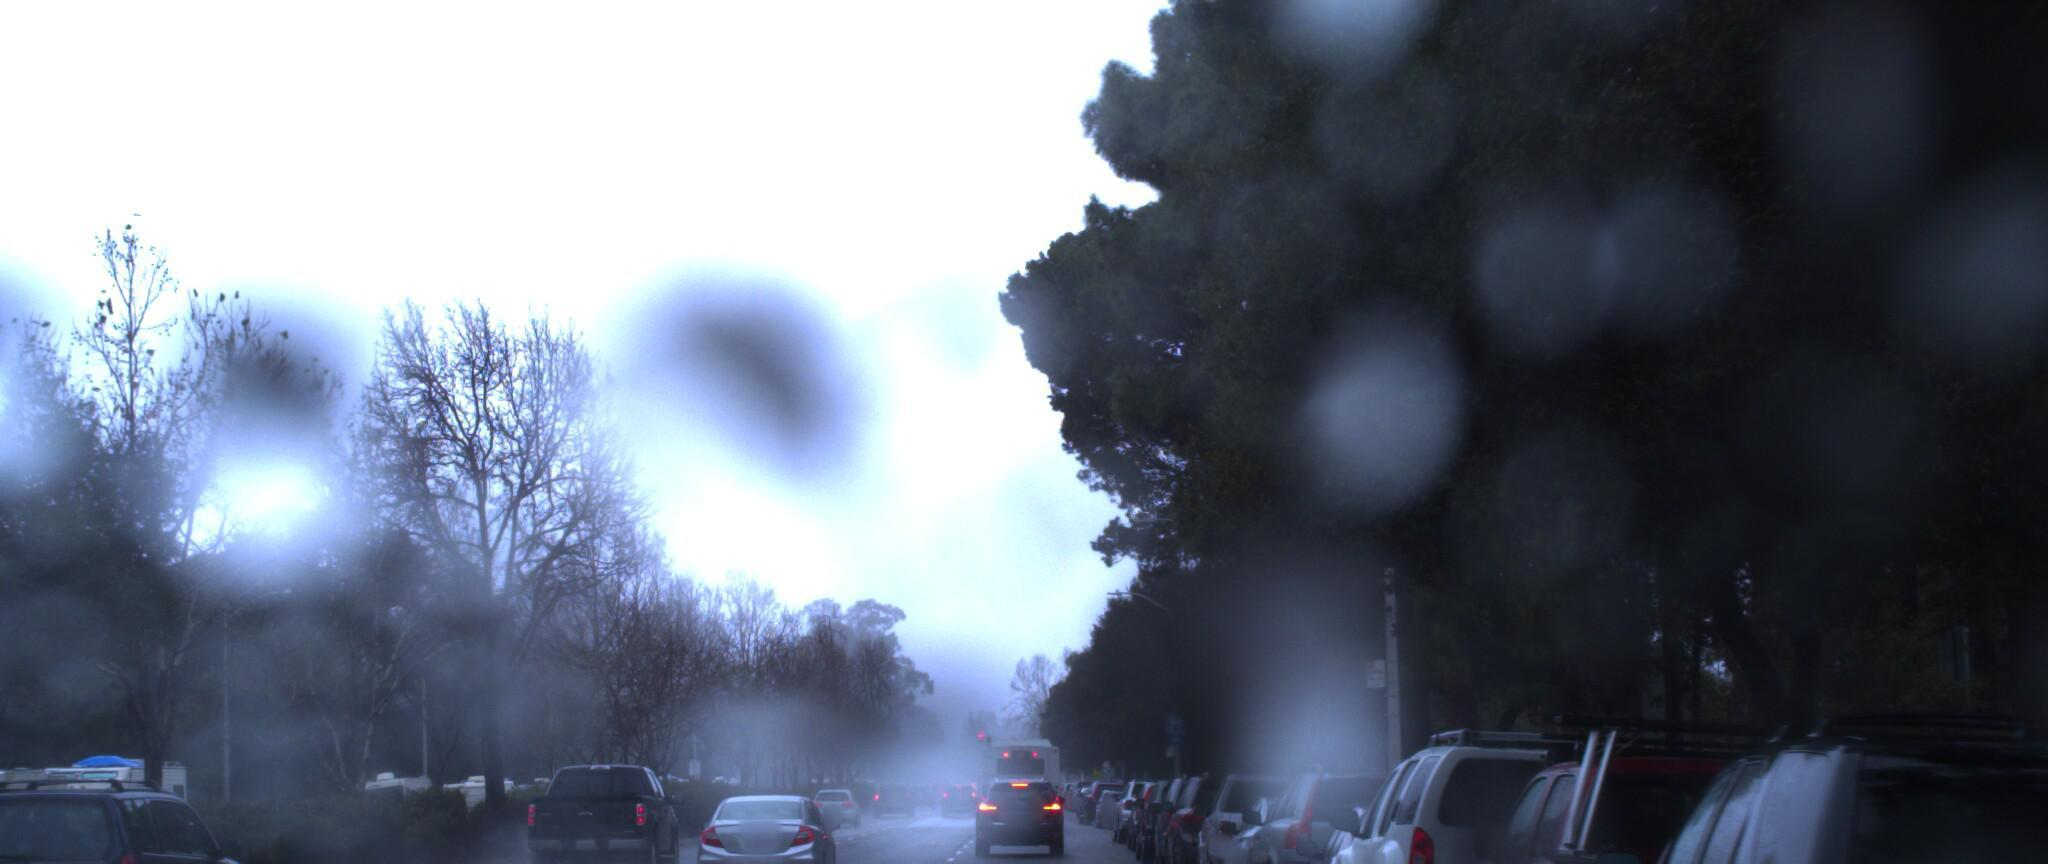car: (1400, 702, 2013, 864), (1526, 703, 2048, 864), (1301, 726, 1701, 864), (1225, 764, 1463, 864), (0, 780, 266, 864), (1271, 799, 1565, 864), (517, 779, 684, 864), (680, 784, 833, 864), (964, 767, 1067, 863)
other_vehicle: (0, 758, 71, 864)
